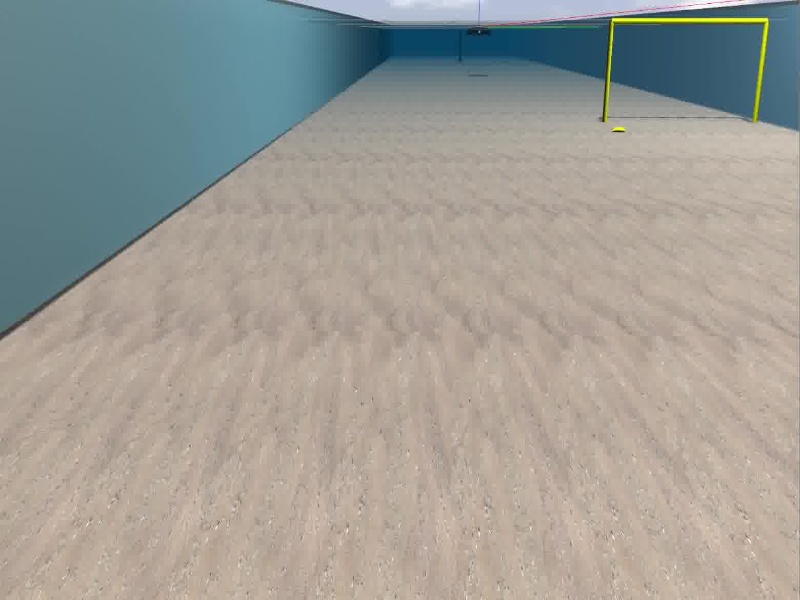gate: (602, 16, 770, 125)
